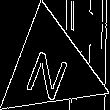N_N: (24, 37, 77, 99)
